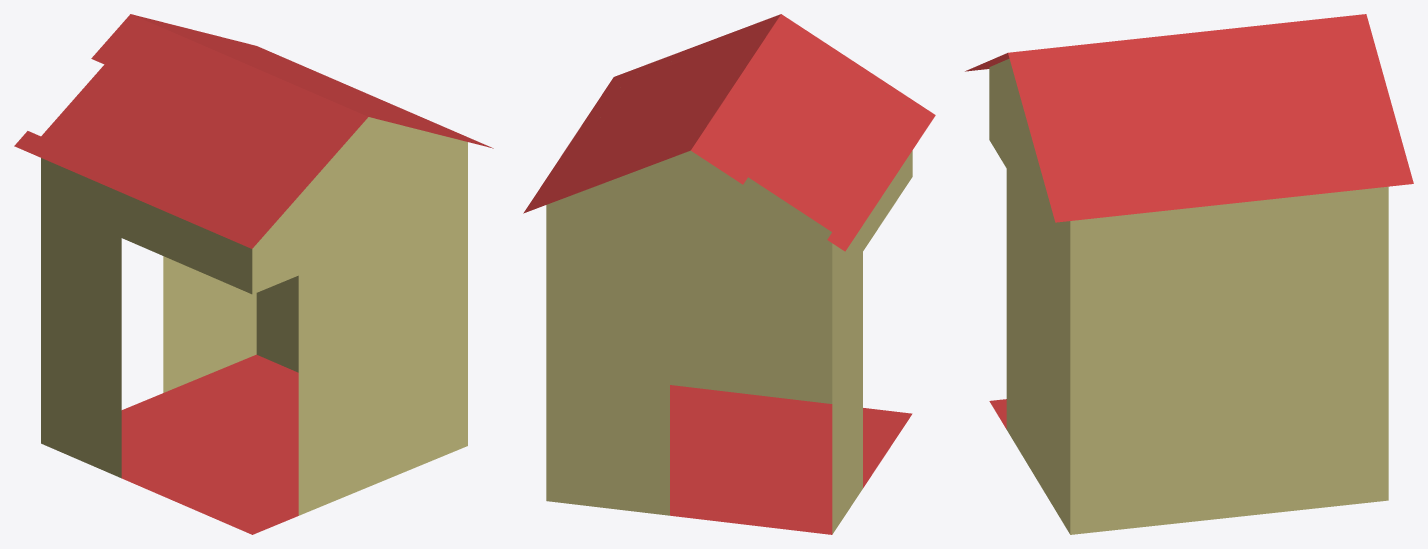
The picture shows the model from 3 angles, left to right: view 1: azimuth 30°, elevation 25°; view 2: azimuth 150°, elevation 25°; view 3: azimuth 270°, elevation 25°; orthographic projection. The views are drawn at different scales.
Bounding box in the file's own units: 10.84 × 10.86 × 11.04.
